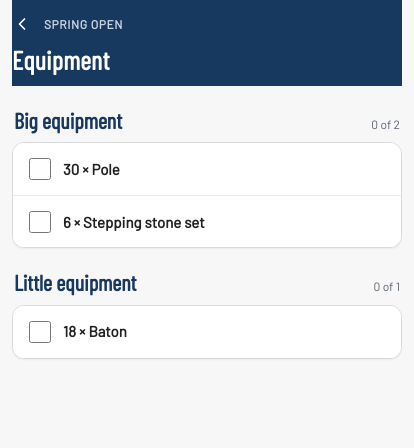
EquipmentPage › takes a tick back and says which item when its save fails
The width and height of the screenshot is (414, 448).
Click the checkbox labelled "30 × Pole": click(40, 170) x1=29 y1=158 x2=51 y2=180
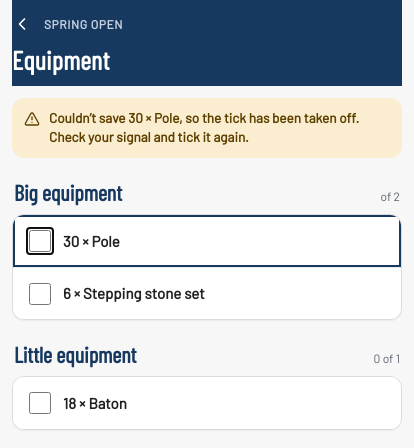
Expected: the checkbox labelled "30 × Pole" is not checked, x1=29 y1=230 x2=51 y2=252
Expected: the message shows "Couldn’t save 30 × Pole", x1=49 y1=109 x2=359 y2=145
